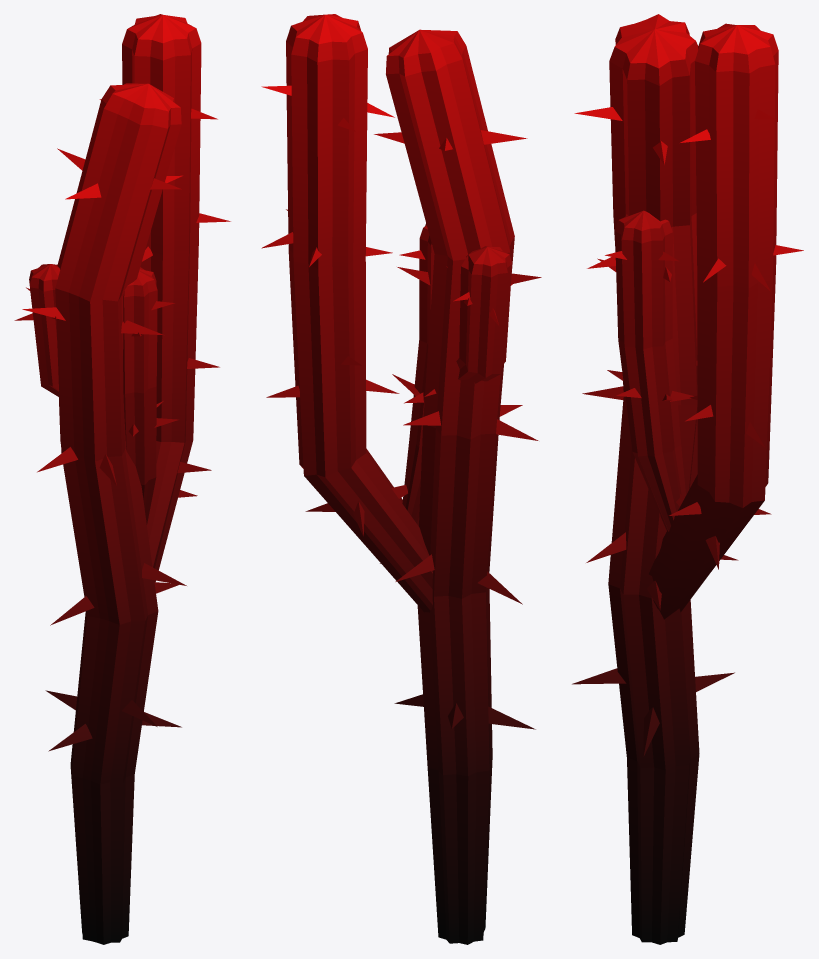
The model's file is TreeCactusTall03.fbx.
3 views of the same model, side by side, from view 1: azimuth 30°, elevation 25°; view 2: azimuth 150°, elevation 25°; view 3: azimuth 270°, elevation 25° (orthographic). The views are drawn at different scales.
Parts seen in each view (by area): view 1: TreeCactusTall03_LOD0; view 2: TreeCactusTall03_LOD0; view 3: TreeCactusTall03_LOD0.
Boxes of the visible parts, box(x1,y1,x2,y2) form: TreeCactusTall03_LOD0: box(14, 14, 230, 944); TreeCactusTall03_LOD0: box(261, 14, 541, 944); TreeCactusTall03_LOD0: box(572, 14, 803, 944).
Size of what is drawn, in the model's own units: 93.67 by 344 by 76.02.
